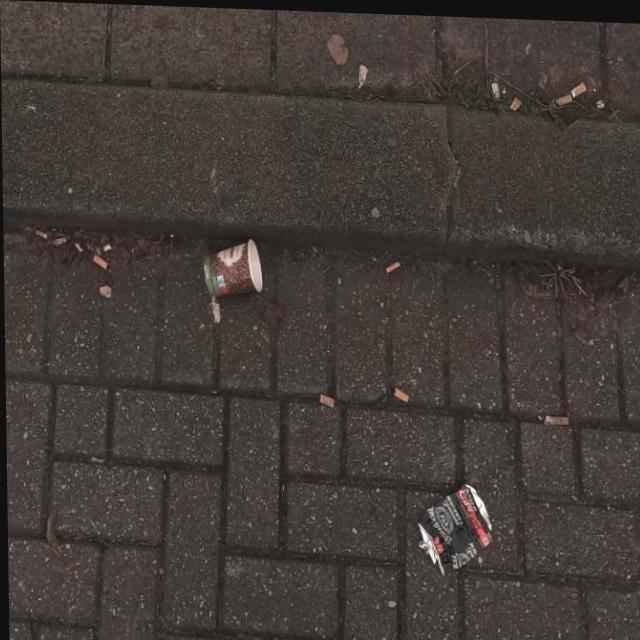Can-Metal: (413, 476, 493, 577)
Cup: (201, 234, 263, 299)
